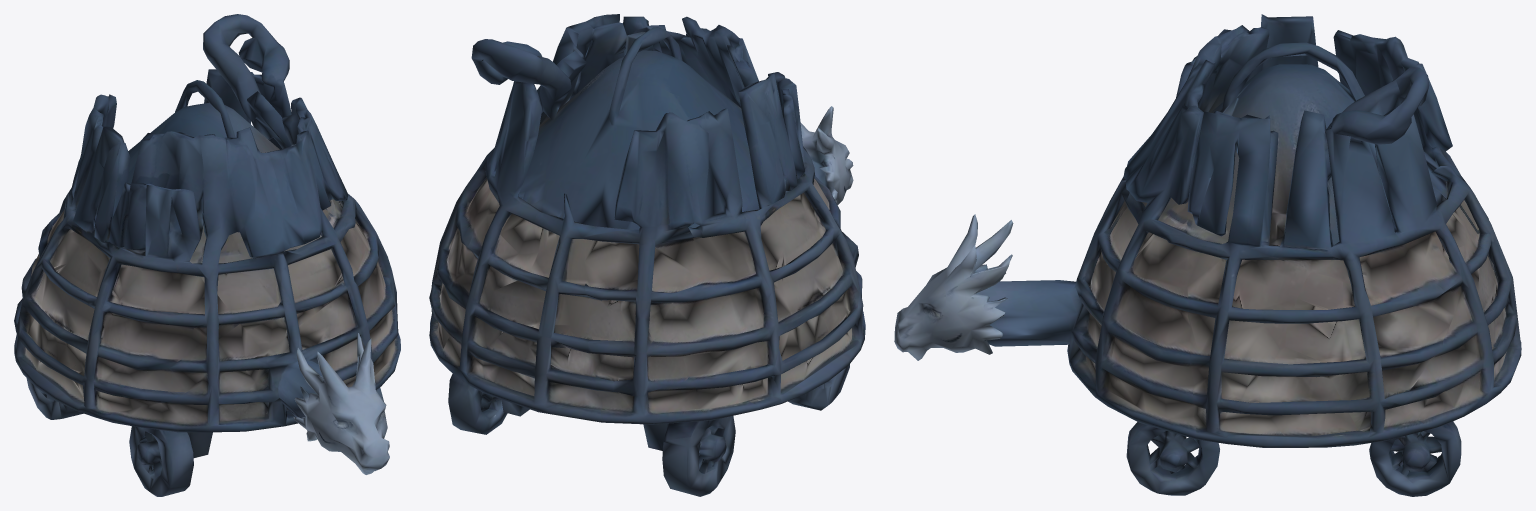
3 views of the same model, side by side, from view 1: azimuth 30°, elevation 25°; view 2: azimuth 150°, elevation 25°; view 3: azimuth 270°, elevation 25° (orthographic). The views are drawn at different scales.
Visible parts, largest first — view 1: tripo_node_07116c73-37fd-4cdc-ad32-712c3ddc5fa1; view 2: tripo_node_07116c73-37fd-4cdc-ad32-712c3ddc5fa1; view 3: tripo_node_07116c73-37fd-4cdc-ad32-712c3ddc5fa1.
Boxes of the visible parts, bbox=[...] form: tripo_node_07116c73-37fd-4cdc-ad32-712c3ddc5fa1: bbox=[14, 14, 400, 496]; tripo_node_07116c73-37fd-4cdc-ad32-712c3ddc5fa1: bbox=[429, 14, 865, 496]; tripo_node_07116c73-37fd-4cdc-ad32-712c3ddc5fa1: bbox=[894, 14, 1521, 496].
Bounding box in the file's own units: 0.7136 × 0.7277 × 0.9983.
Materials: 1 (1 with a texture image).
